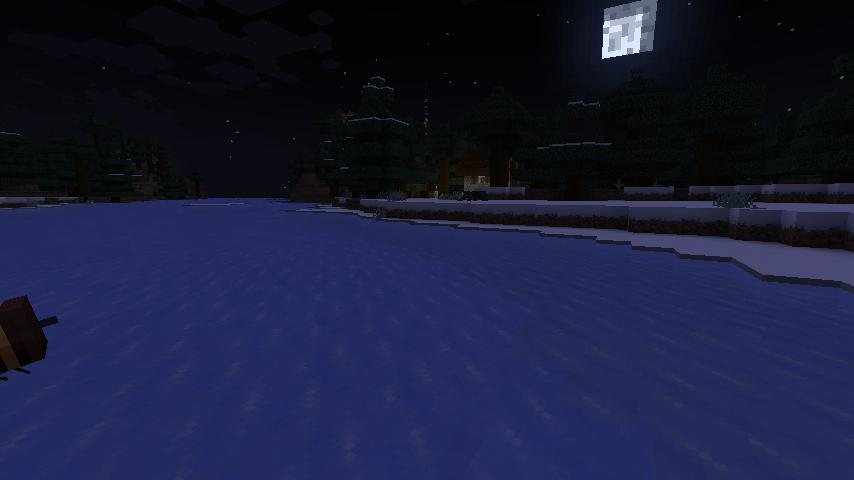bee: (0, 292, 64, 385)
spider: (457, 189, 489, 204)
